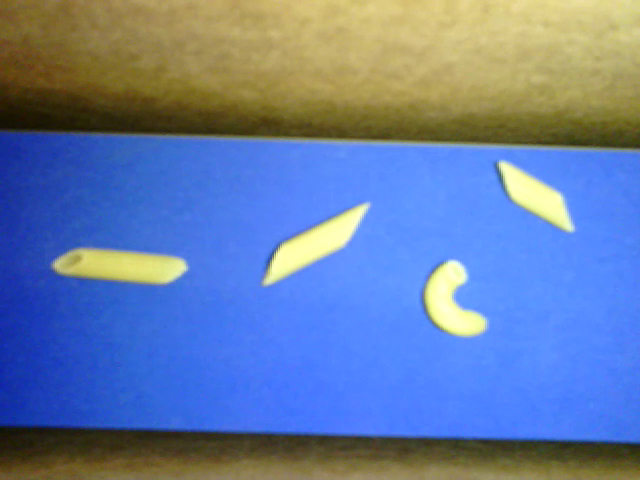elbow: (421, 259, 488, 338)
penne: (261, 203, 368, 286), (497, 159, 574, 231), (52, 248, 188, 284)
